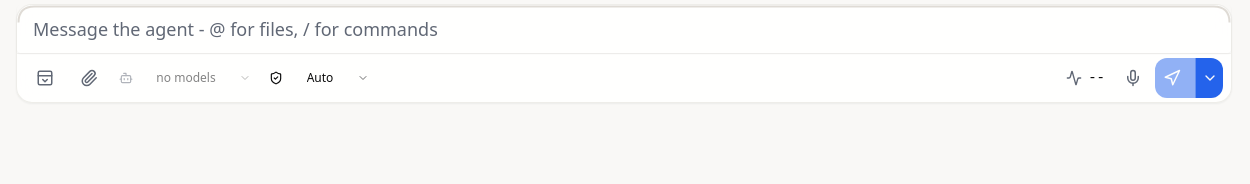
Test case: Composer › keeps an empty shell command draft and shows usage
In the text box with test id "composer-input": (624, 29) x1=17 y1=5 x2=1231 y2=53, type "!  "
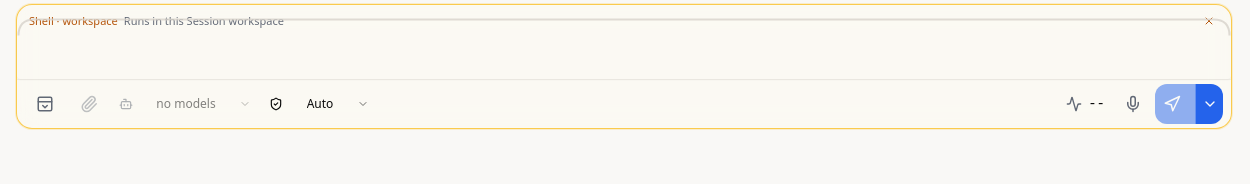
Press Enter in the text box with test id "composer-input", box x1=17 y1=31 x2=1231 y2=79
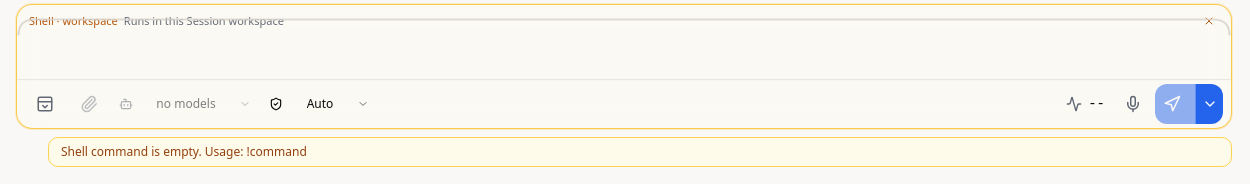
expect the text box with test id "composer-input" holds "  ": met, box x1=17 y1=31 x2=1231 y2=79
expect the text "Shell command is empty. Usage: !command" is shown: met, box x1=48 y1=137 x2=1232 y2=167
